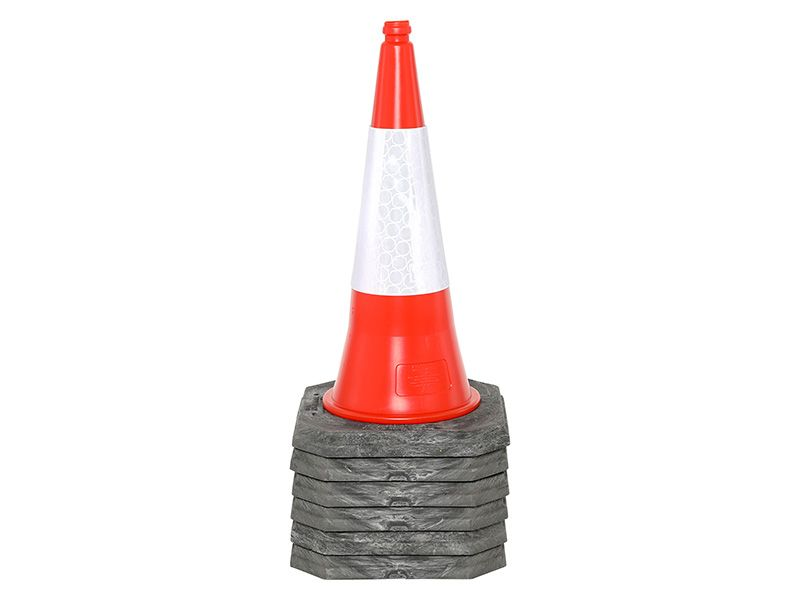Road_cone: (287, 21, 528, 457)
